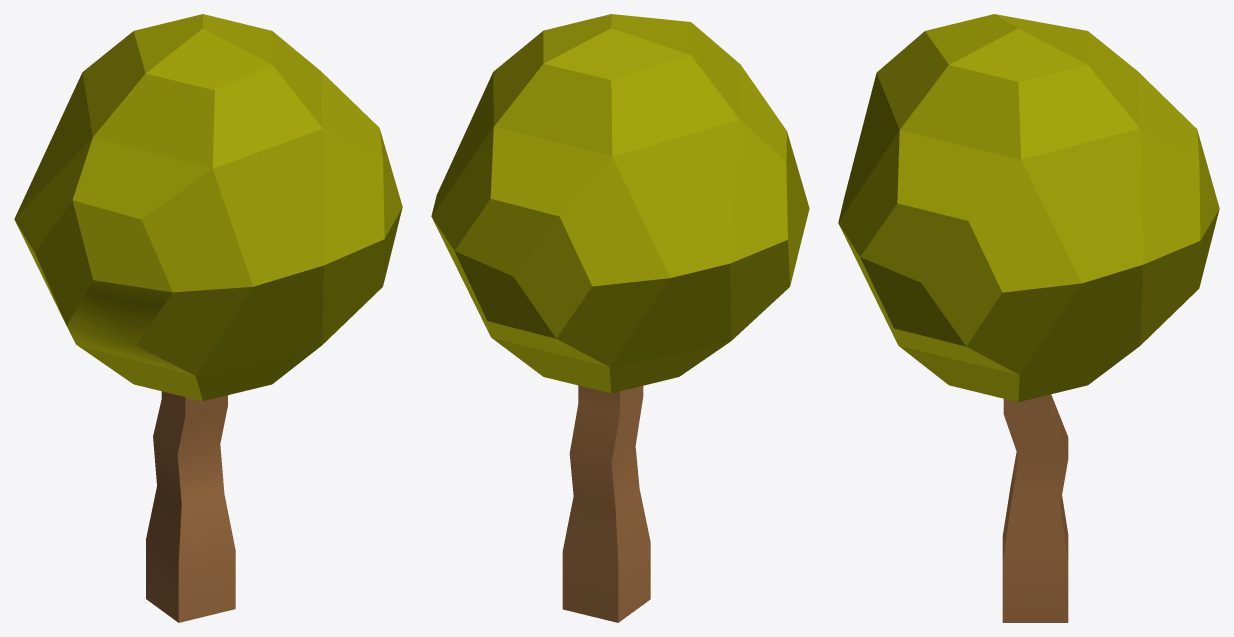
Rendered from Prop_Tree_Mod_01.fbx.
The picture shows the model from 3 angles, left to right: view 1: azimuth 30°, elevation 25°; view 2: azimuth 150°, elevation 25°; view 3: azimuth 270°, elevation 25°; orthographic projection. The views are drawn at different scales.
Parts seen in each view (by area): view 1: Tree; view 2: Tree; view 3: Tree.
Boxes of the visible parts, bbox=[...] form: Tree: bbox=[14, 14, 402, 622]; Tree: bbox=[431, 14, 809, 622]; Tree: bbox=[838, 14, 1219, 622].
Bounding box in the file's own units: 3 × 4.89 × 2.9.
